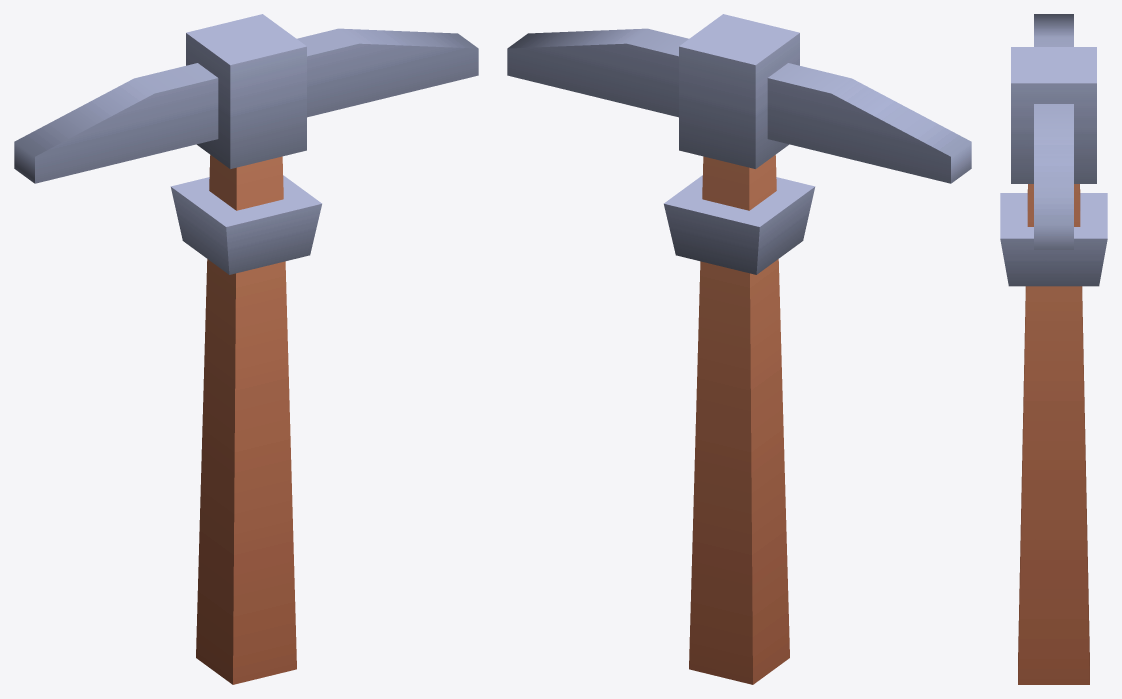
Rendered from surv.tool_pickaxe.glb.
3 views of the same model, side by side, from view 1: azimuth 30°, elevation 25°; view 2: azimuth 150°, elevation 25°; view 3: azimuth 270°, elevation 25° (orthographic). The views are drawn at different scales.
Visible parts, largest first — view 1: tool-pickaxe; view 2: tool-pickaxe; view 3: tool-pickaxe.
Part boxes in pixels (<box>): tool-pickaxe: <box>14,14,478,684</box>; tool-pickaxe: <box>507,14,971,684</box>; tool-pickaxe: <box>1000,14,1107,684</box>.
Size of the model in its own units: 0.4673 by 0.6279 by 0.1013.
Materials: 1 (1 with a texture image).
